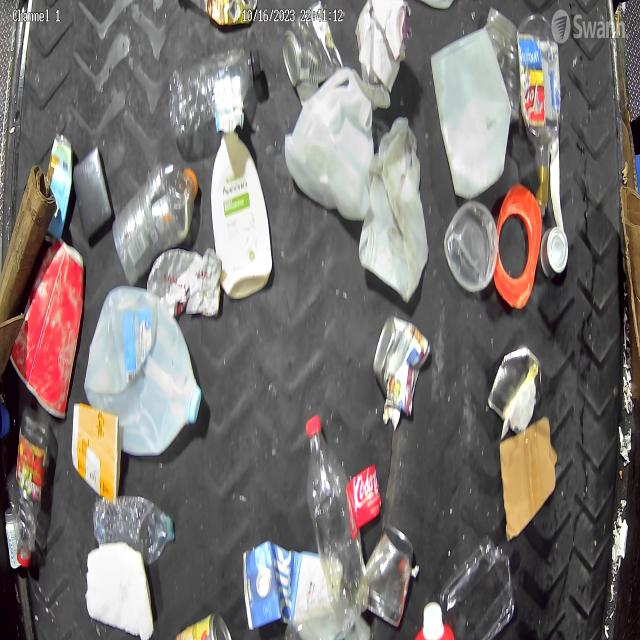can: (372, 314, 430, 415), (364, 524, 416, 630), (488, 345, 541, 427), (281, 19, 338, 92), (172, 613, 233, 640), (543, 225, 569, 282)
milk_jug: (85, 284, 202, 456), (284, 66, 375, 219)
non_white_jug: (210, 132, 273, 300), (245, 544, 338, 630)
plastic_bottle: (302, 413, 369, 636), (169, 49, 255, 135), (518, 13, 558, 173), (92, 494, 176, 567), (13, 407, 51, 566)
